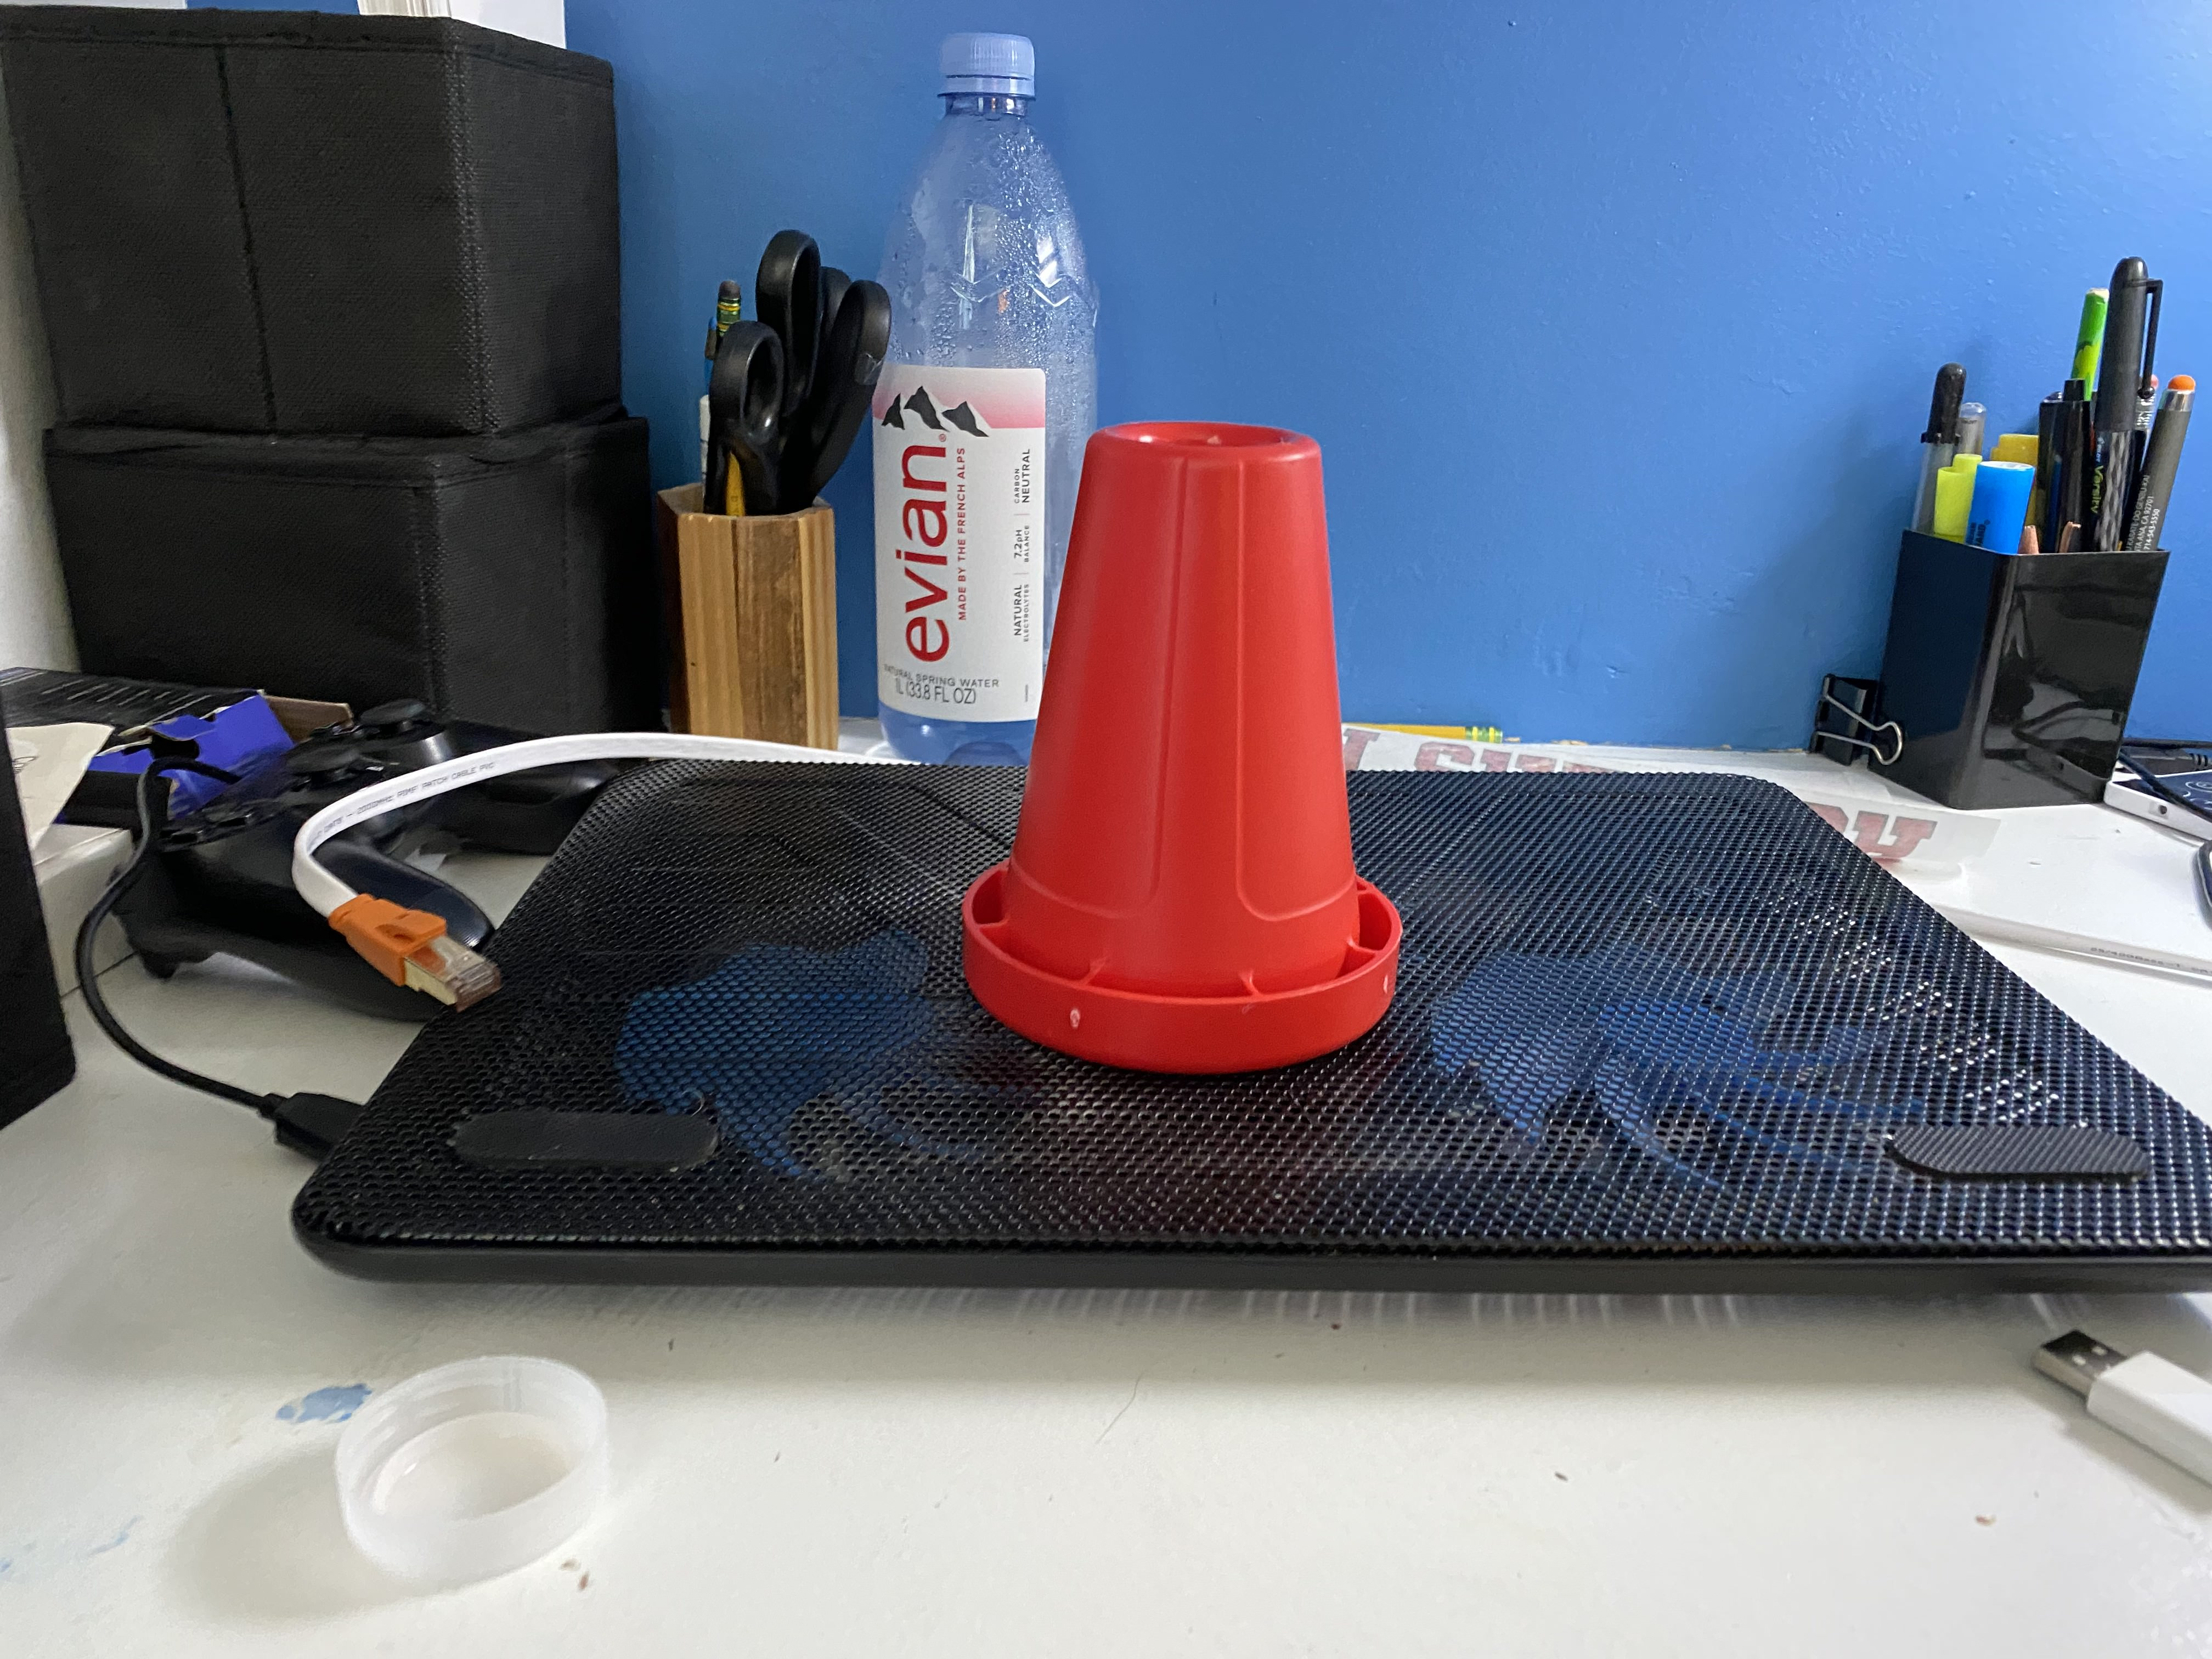redCone: (953, 413, 1413, 1087)
